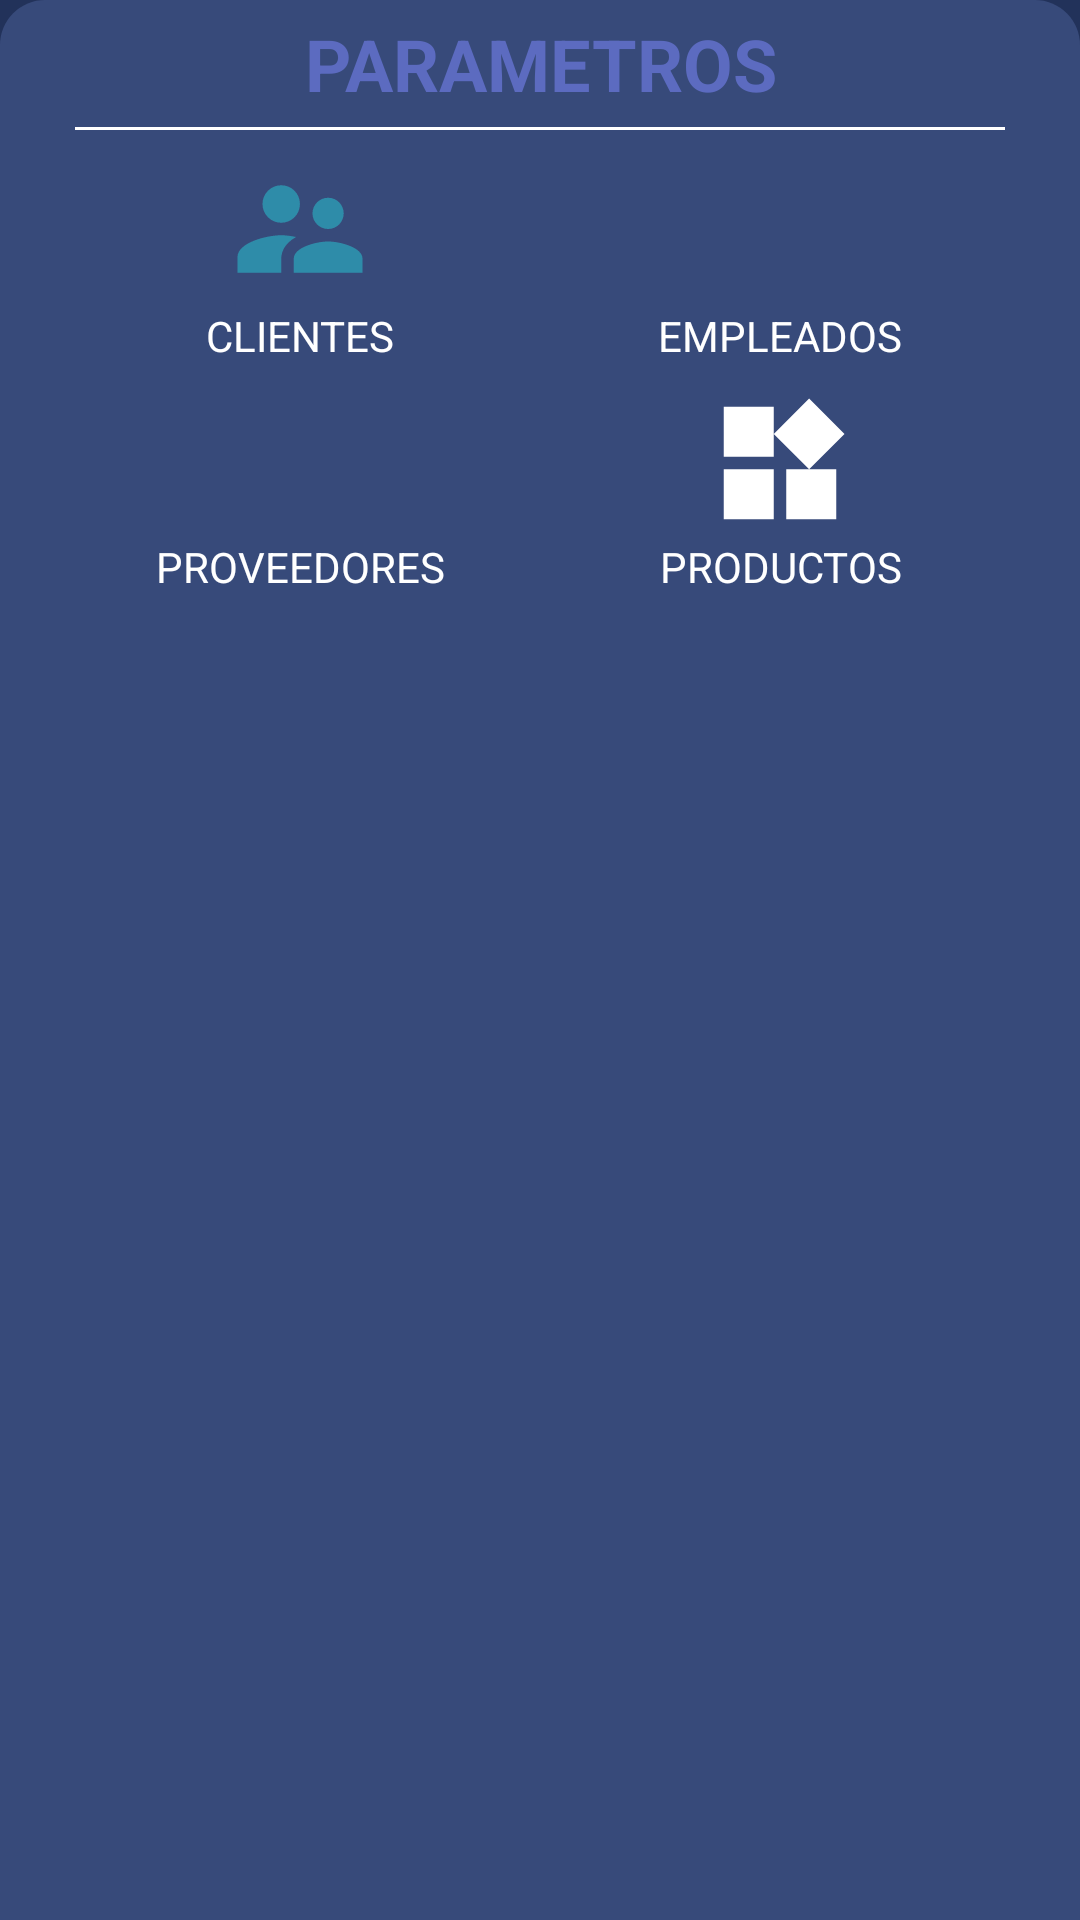

Icons on this 1080x1920 Android screen, each with the point to tap as [x,y]:
usuarios: [300,229]
